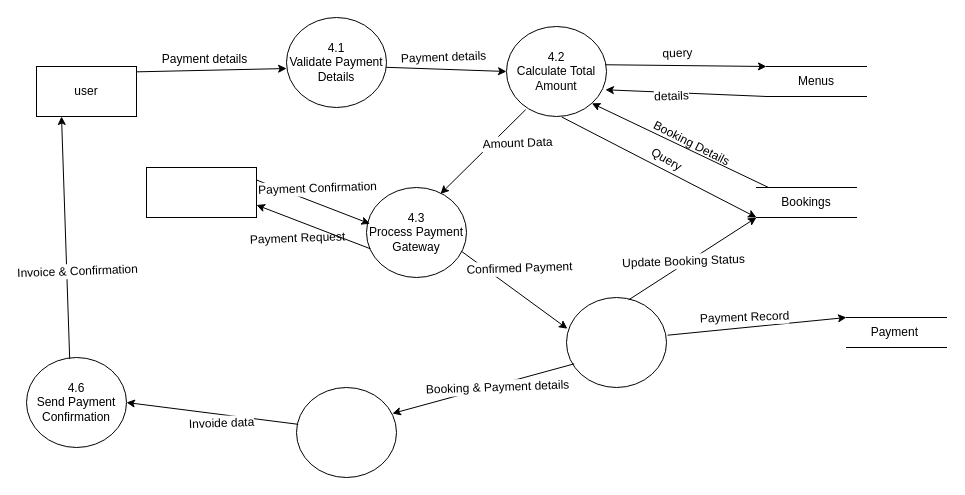
Some shapes in this 965 by 495 pixel diagram are drawn without their labels. The centre of each missing label's shape, as x and y in pixels:
"4.4 Update Booking Status" goes at point 616,342.
"4.5 Generate Invoice" goes at point 346,432.
"Payment providers" goes at point 201,192.
